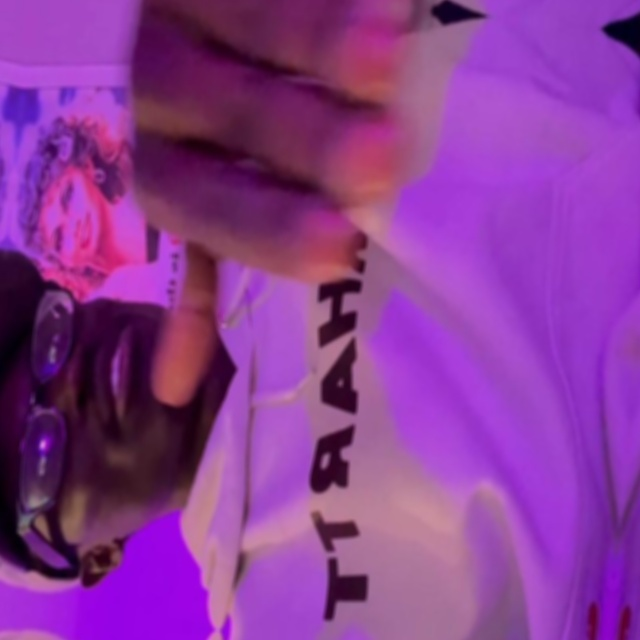Paper: (92, 0, 421, 427)
